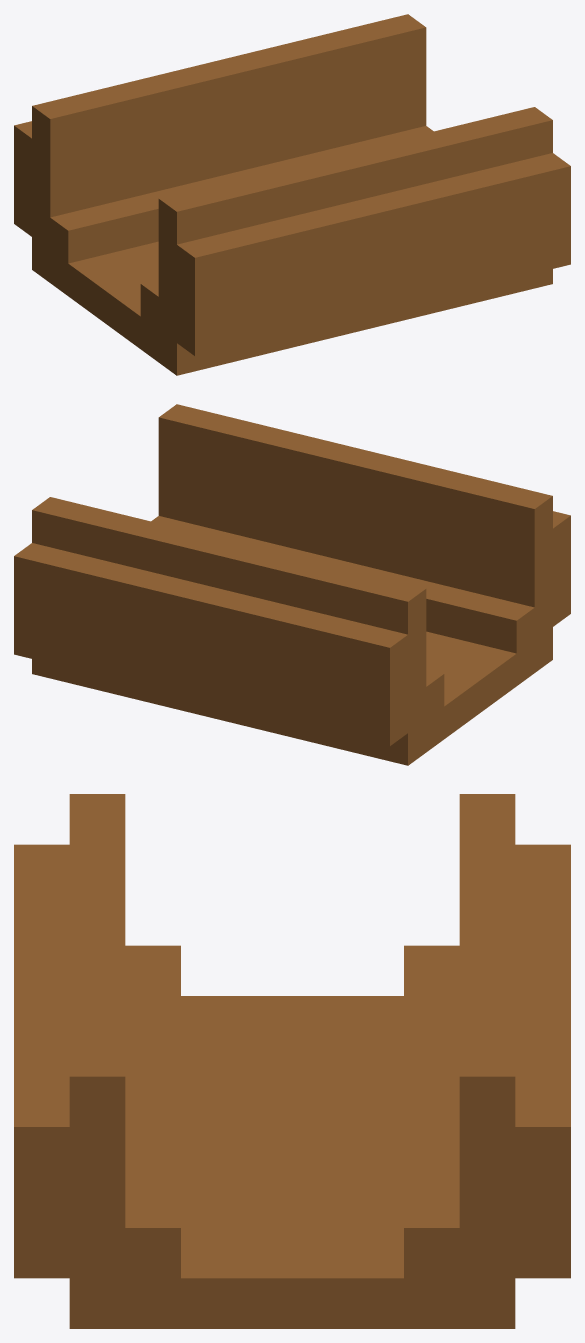
The model's file is bun.obj.
3 renders of one model, top to bottom at view 1: azimuth 30°, elevation 25°; view 2: azimuth 150°, elevation 25°; view 3: azimuth 270°, elevation 25°, orthographic. The views are drawn at different scales.
Parts seen in each view (by area): view 1: Bun; view 2: Bun; view 3: Bun.
Boxes of the visible parts, x1=… form: Bun: x1=14, y1=14, x2=570, y2=375; Bun: x1=14, y1=404, x2=570, y2=765; Bun: x1=14, y1=794, x2=570, y2=1328.
Size of the model in its own units: 12 by 5 by 10.
Materials: 1 (1 with a texture image).
